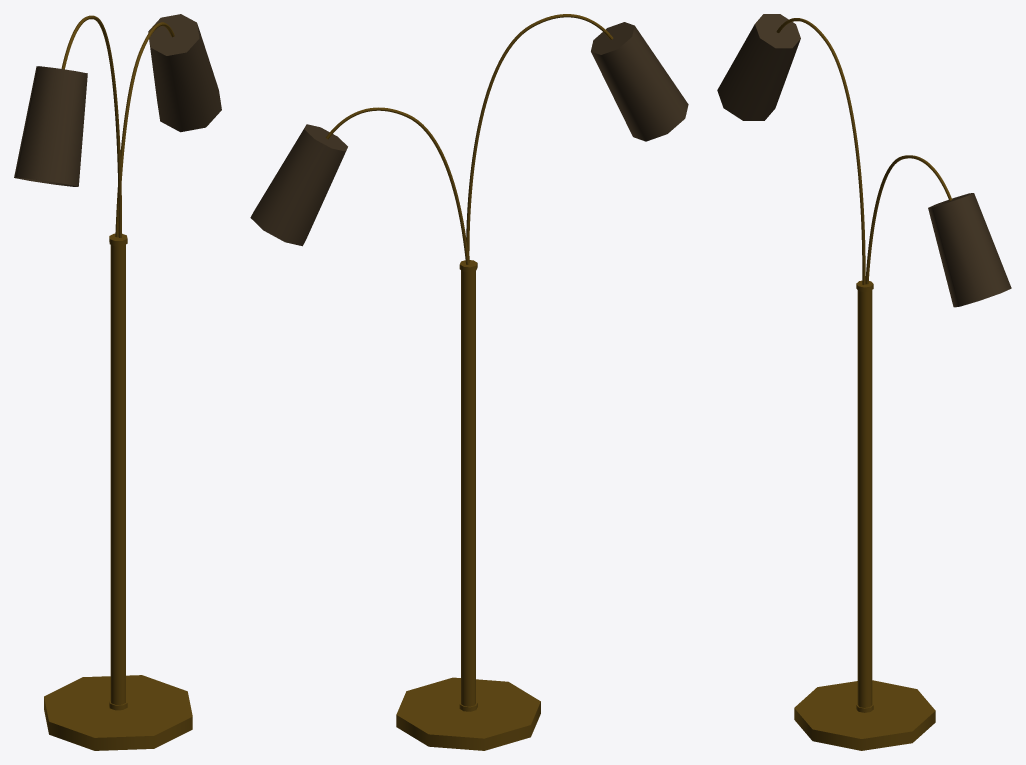
File: porta_romana_kelly_fbx.FBX
3 views of the same model, side by side, from view 1: azimuth 30°, elevation 25°; view 2: azimuth 150°, elevation 25°; view 3: azimuth 270°, elevation 25° (orthographic). The views are drawn at different scales.
Visible parts, largest first — view 1: Cylinder008, Cylinder009, Cylinder010, Line003, Line004; view 2: Cylinder008, Cylinder009, Cylinder010, Line003, Line004; view 3: Cylinder008, Cylinder010, Cylinder009, Line003, Line004.
Part boxes in pixels (left/top/right/bottom): Cylinder008: left=44, top=233, right=192, bottom=750; Cylinder009: left=14, top=66, right=87, bottom=186; Cylinder010: left=148, top=14, right=221, bottom=132; Line003: left=61, top=15, right=121, bottom=237; Line004: left=115, top=22, right=174, bottom=237; Cylinder008: left=396, top=260, right=540, bottom=750; Cylinder009: left=591, top=22, right=688, bottom=141; Cylinder010: left=250, top=124, right=347, bottom=246; Line003: left=466, top=14, right=613, bottom=262; Line004: left=325, top=107, right=469, bottom=264; Cylinder008: left=794, top=280, right=935, bottom=750; Cylinder010: left=928, top=193, right=1011, bottom=307; Cylinder009: left=717, top=14, right=800, bottom=120; Line003: left=776, top=18, right=865, bottom=284; Line004: left=865, top=155, right=952, bottom=284.
Size of the model in its own units: 794 by 1705 by 679.
